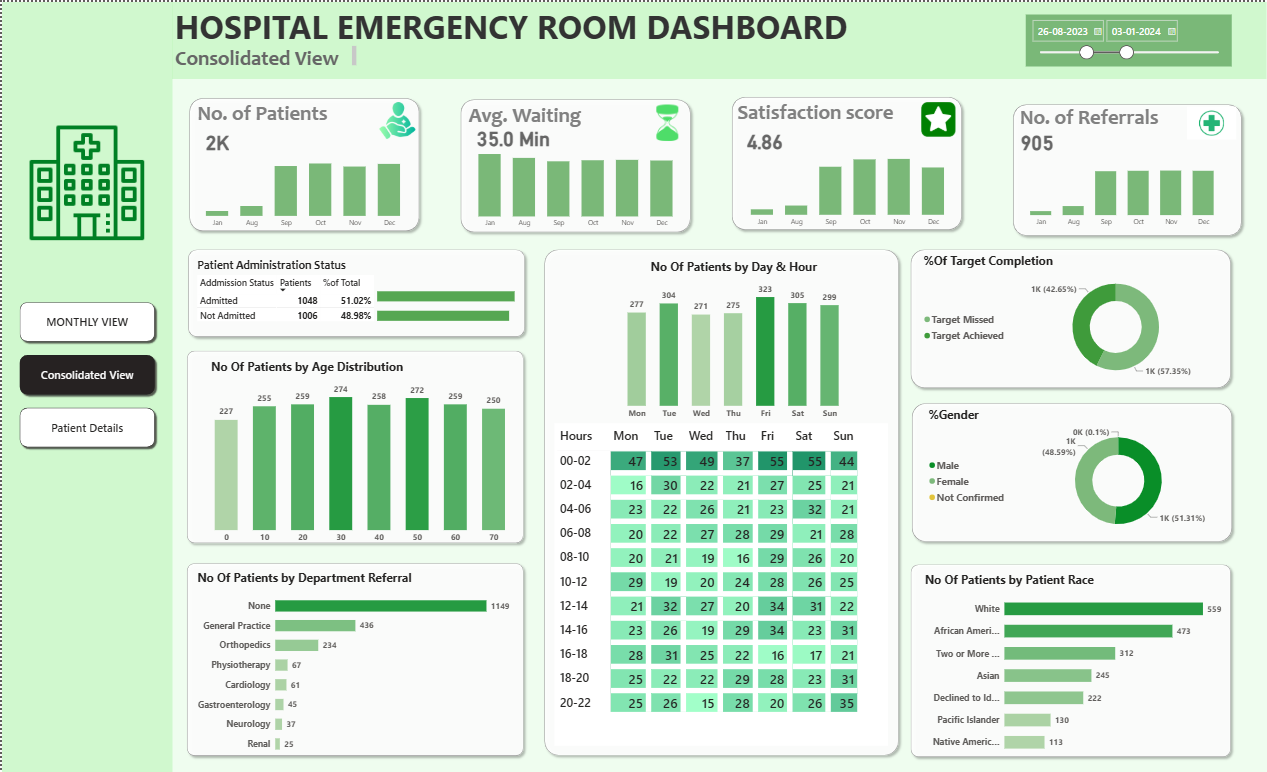

Layout of this report page (visuals, bound fields, positions):
{"tool":"powerbi","page":{"name":"Consolidated View","canvas":[2300,1400],"ordinal":1},"visuals":[{"type":"shape","box":[310,0,1990,140],"z":0},{"type":"shape","box":[0,0,310,1400],"z":1000},{"type":"textbox","box":[309.5,0,1252.4,104.8],"z":2000},{"type":"textbox","box":[310,75,340,50],"z":3000},{"type":"slicer","fields":{"Values":["Date_table.Date"]},"box":[1861.2,23.8,372.5,92.5],"z":4000},{"type":"shape","box":[331,166.7,435.7,259.5],"z":5000},{"type":"textbox","box":[351.1,175.6,340,57.8],"z":6000},{"type":"cardVisual","fields":{"Data":["Hospital ER_Data.No Of Patients"]},"box":[340,206,192,95],"z":7000},{"type":"columnChart","fields":{"Category":["Date_table.Month"],"Y":["Hospital ER_Data.No Of Patients"]},"box":[340,260,415,160],"z":8000},{"type":"shape","box":[824.1,167.5,435.7,259.5],"z":9000},{"type":"textbox","box":[843.3,176.7,340,57.8],"z":10000},{"type":"cardVisual","fields":{"Data":["Hospital ER_Data.Avg Wait Time"]},"box":[834.1,200,206.8,95.5],"z":11000},{"type":"columnChart","fields":{"Category":["Date_table.Month"],"Y":["Avg(Hospital ER_Data.Patient Waittime)"]},"box":[836,260,415,161],"z":12000},{"type":"shape","box":[1317.3,164.2,435.7,259.5],"z":13000},{"type":"textbox","box":[1331.1,173.3,340,57.8],"z":14000},{"type":"cardVisual","fields":{"Data":["Hospital ER_Data.satisfaction score"]},"box":[1324,205,192,96],"z":15000},{"type":"columnChart","fields":{"Category":["Date_table.Month"],"Y":["Sum(Hospital ER_Data.Patient Satisfaction Score)"]},"box":[1331,260,413,158],"z":16000},{"type":"shape","box":[1830,176.7,433.3,256.7],"z":17000},{"type":"textbox","box":[1845.5,181.8,338.6,59.1],"z":18000},{"type":"cardVisual","fields":{"Data":["Hospital ER_Data.no of referral"]},"box":[1822,207,192,95],"z":19000},{"type":"columnChart","fields":{"Category":["Date_table.Month"],"Y":["Hospital ER_Data.no of referral"]},"box":[1841.4,260,392.9,158.6],"z":20000},{"type":"shape","box":[330,440,630,177],"z":21000},{"type":"pivotTable","title":"Patient Administration Status","fields":{"Rows":["Hospital ER_Data.Addmission Status"],"Values":["Hospital ER_Data.No Of Patients1","Hospital ER_Data.No Of Patients"]},"box":[350.8,465.4,585.4,125.4],"z":22000},{"type":"barChart","fields":{"Category":["Hospital ER_Data.Addmission Status"],"Y":["Hospital ER_Data.No Of Patients"]},"box":[676.7,495.6,260,110],"z":23000},{"type":"shape","box":[328.2,624.5,630,368],"z":24000},{"type":"clusteredColumnChart","fields":{"Category":["Hospital ER_Data.Age Distribution"],"Y":["Hospital ER_Data.No Of Patients"]},"box":[375,646.7,551.7,346.7],"z":25000},{"type":"shape","box":[328.3,1011.7,630,368.3],"z":26000},{"type":"clusteredBarChart","fields":{"Category":["Hospital ER_Data.Department Referral"],"Y":["Hospital ER_Data.No Of Patients"]},"box":[350,1032,578,348],"z":27000},{"type":"shape","box":[1644,442,600,270],"z":28000},{"type":"donutChart","title":"%Of Target Completion","fields":{"Category":["Hospital ER_Data.Wait Time"],"Y":["Hospital ER_Data.No Of Patients"]},"box":[1671.2,454.4,554,244],"z":29000},{"type":"shape","box":[1645.6,720.4,600,270],"z":30000},{"type":"donutChart","title":"%Gender","fields":{"Y":["Hospital ER_Data.No Of Patients"],"Category":["Hospital ER_Data.Patient Gender"]},"box":[1679.6,734.8,554,244],"z":31000},{"type":"shape","box":[1644,1014,600,368],"z":32000},{"type":"clusteredBarChart","fields":{"Y":["Hospital ER_Data.No Of Patients"],"Category":["Hospital ER_Data.Patient Race"]},"box":[1672,1034,550,346],"z":33000},{"type":"shape","box":[978,440,662,938],"z":34000},{"type":"pivotTable","fields":{"Rows":["Hospital ER_Data.Wait Time Interval"],"Columns":["Date_table.Day Name"],"Values":["Hospital ER_Data.No Of Patients"]},"box":[1004,766,606,586],"z":35000},{"type":"columnChart","title":"No Of Patients by Day & Hour","fields":{"Category":["Date_table.Day Name"],"Y":["Hospital ER_Data.No Of Patients"]},"box":[1110,465,442.5,302.5],"z":36000},{"type":"pageNavigator","box":[26,538,260,278],"z":37000},{"type":"image","box":[42.5,212.5,222.5,230],"z":38000},{"type":"image","box":[677,178,83,77],"z":39000},{"type":"image","box":[1671,182,64,63],"z":40000},{"type":"image","box":[2153.8,189.7,89.7,62.8],"z":41000},{"type":"image","box":[1183.3,186.7,51.7,66.7],"z":42000}]}

Visuals, with their boxes in screenshot pixels (x1, y1, x2, y2), scaled from the page's 2300x1400 canvas onto the 1267x772 screenshot:
shape: l=171, t=0, r=1266, b=77
shape: l=0, t=0, r=171, b=771
textbox: l=170, t=0, r=860, b=58
textbox: l=171, t=41, r=358, b=69
slicer - Date_table.Date: l=1025, t=13, r=1230, b=64
shape: l=182, t=92, r=422, b=235
textbox: l=193, t=97, r=381, b=129
cardVisual - Hospital ER_Data.No Of Patients: l=187, t=114, r=293, b=166
columnChart - Date_table.Month x Hospital ER_Data.No Of Patients: l=187, t=143, r=416, b=232
shape: l=454, t=92, r=694, b=235
textbox: l=465, t=97, r=652, b=129
cardVisual - Hospital ER_Data.Avg Wait Time: l=459, t=110, r=573, b=163
columnChart - Date_table.Month x Avg(Hospital ER_Data.Patient Waittime): l=461, t=143, r=689, b=232
shape: l=726, t=91, r=966, b=234
textbox: l=733, t=96, r=921, b=127
cardVisual - Hospital ER_Data.satisfaction score: l=729, t=113, r=835, b=166
columnChart - Date_table.Month x Sum(Hospital ER_Data.Patient Satisfaction Score): l=733, t=143, r=961, b=230
shape: l=1008, t=97, r=1247, b=239
textbox: l=1017, t=100, r=1203, b=133
cardVisual - Hospital ER_Data.no of referral: l=1004, t=114, r=1109, b=167
columnChart - Date_table.Month x Hospital ER_Data.no of referral: l=1014, t=143, r=1231, b=231
shape: l=182, t=243, r=529, b=340
"Patient Administration Status" pivotTable: l=193, t=257, r=516, b=326
barChart - Hospital ER_Data.Addmission Status x Hospital ER_Data.No Of Patients: l=373, t=273, r=516, b=334
shape: l=181, t=344, r=528, b=547
clusteredColumnChart - Hospital ER_Data.Age Distribution x Hospital ER_Data.No Of Patients: l=207, t=357, r=510, b=548
shape: l=181, t=558, r=528, b=761
clusteredBarChart - Hospital ER_Data.Department Referral x Hospital ER_Data.No Of Patients: l=193, t=569, r=511, b=761
shape: l=906, t=244, r=1236, b=393
"%Of Target Completion" donutChart: l=921, t=251, r=1226, b=385
shape: l=907, t=397, r=1237, b=546
"%Gender" donutChart: l=925, t=405, r=1230, b=540
shape: l=906, t=559, r=1236, b=762
clusteredBarChart - Hospital ER_Data.No Of Patients x Hospital ER_Data.Patient Race: l=921, t=570, r=1224, b=761
shape: l=539, t=243, r=903, b=760
pivotTable - Hospital ER_Data.Wait Time Interval x Date_table.Day Name: l=553, t=422, r=887, b=746
"No Of Patients by Day & Hour" columnChart: l=611, t=256, r=855, b=423
pageNavigator: l=14, t=297, r=158, b=450
image: l=23, t=117, r=146, b=244
image: l=373, t=98, r=419, b=141
image: l=921, t=100, r=956, b=135
image: l=1186, t=105, r=1236, b=139
image: l=652, t=103, r=680, b=140
